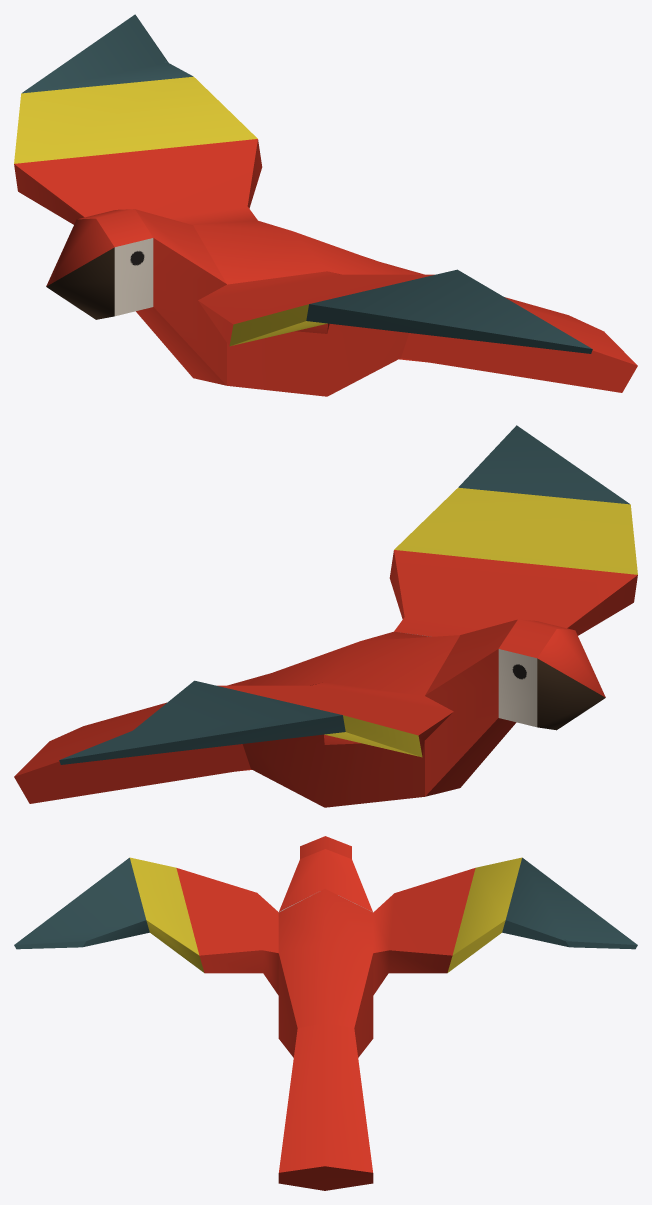
The model's file is parrot_final.fbx.
The picture shows the model from 3 angles, top to bottom: view 1: azimuth 30°, elevation 25°; view 2: azimuth 150°, elevation 25°; view 3: azimuth 270°, elevation 25°; orthographic projection. The views are drawn at different scales.
Visible parts, largest first — view 1: parrot; view 2: parrot; view 3: parrot, parrot6:parrot.
Part boxes in pixels (<box>): parrot: <box>14,14,637,396</box>; parrot: <box>14,425,637,807</box>; parrot: <box>14,836,637,1190</box>; parrot6:parrot: <box>25,921,636,948</box>.
Bounding box in the file's own units: 4.65 × 2.26 × 6.61.
